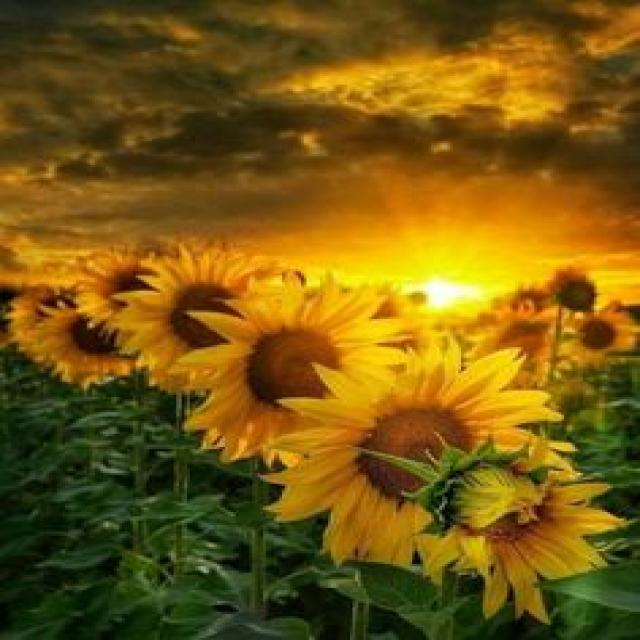sunflower: (274, 336, 578, 575), (175, 266, 424, 482), (27, 304, 144, 382)
